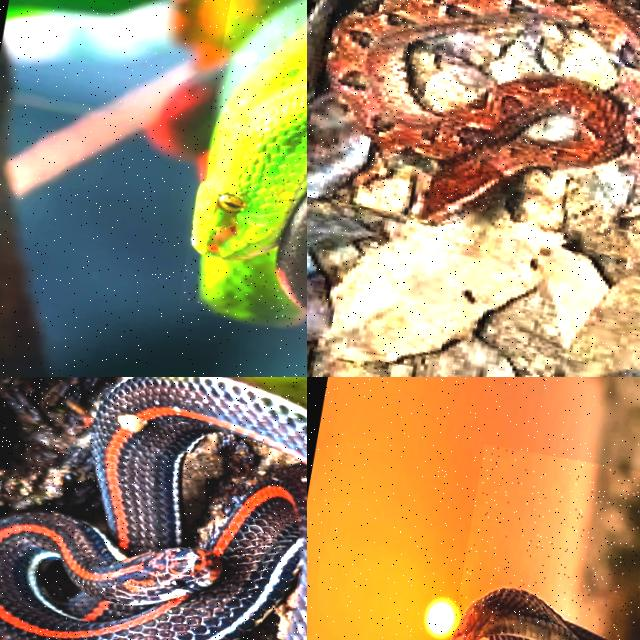Calliophis intestinalis: (0, 377, 306, 639)
Calloselasma rhodostoma: (326, 0, 639, 223)
Ophiophagus hannah: (453, 588, 605, 639)
Trimeresurus macrops: (192, 25, 306, 325)
snake: (0, 377, 306, 639), (326, 0, 639, 223), (192, 25, 306, 325), (453, 588, 605, 639)
